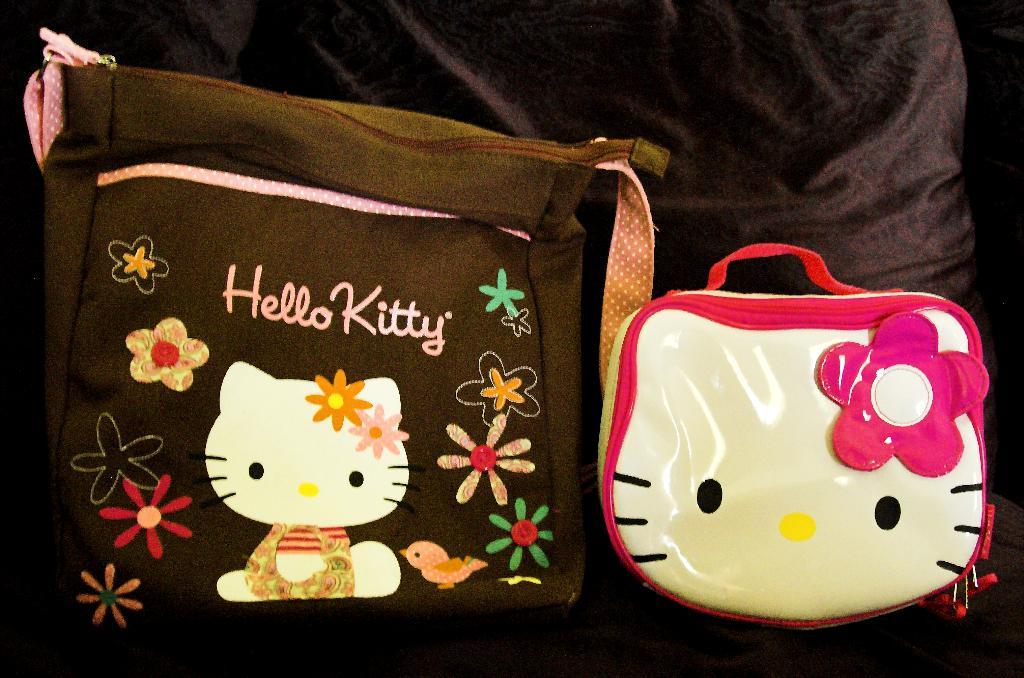Luggage-and-bags: (11, 77, 724, 631), (604, 241, 997, 633)
